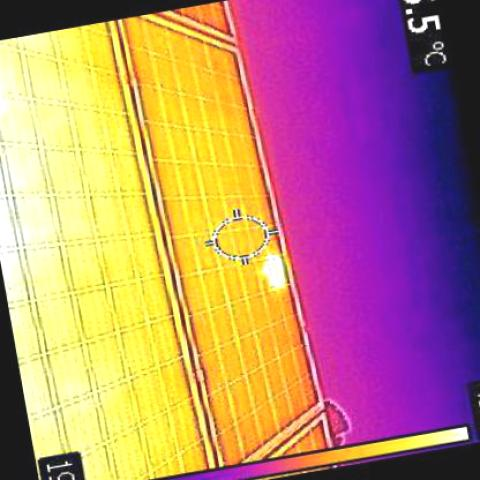fault: (264, 254, 290, 287)
